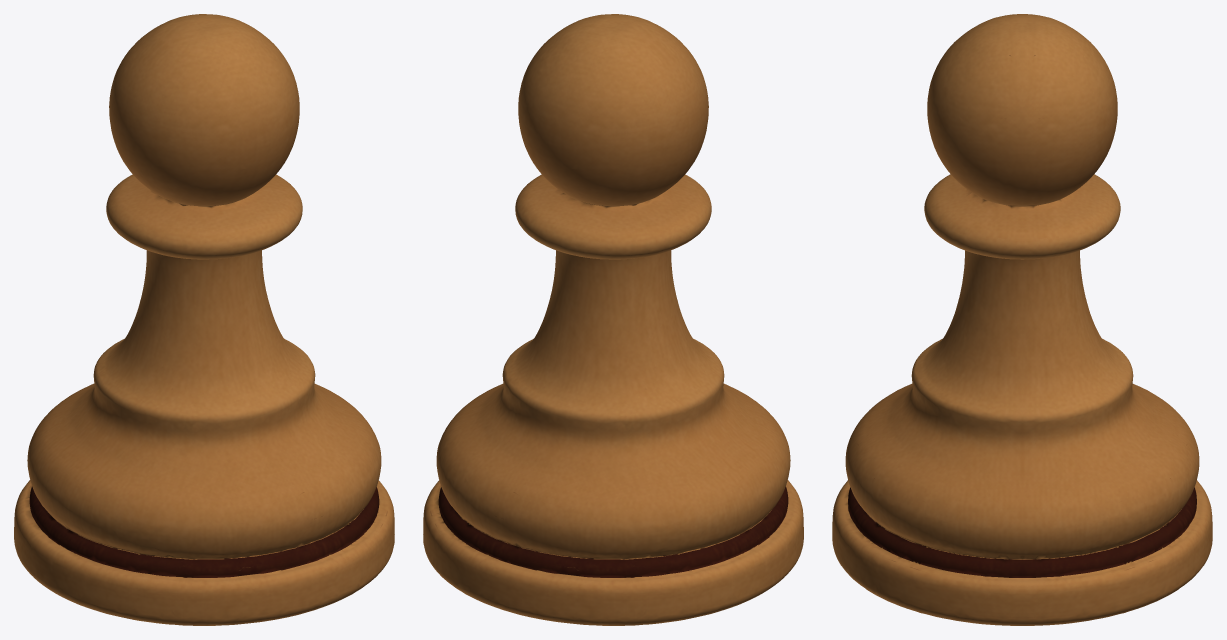
The model's file is 11_pawn_light.glb.
3 views of the same model, side by side, from view 1: azimuth 30°, elevation 25°; view 2: azimuth 150°, elevation 25°; view 3: azimuth 270°, elevation 25° (orthographic).
Parts seen in each view (by area): view 1: world; view 2: world; view 3: world.
Boxes of the visible parts, bbox=[...] form: world: bbox=[14, 14, 394, 625]; world: bbox=[423, 14, 803, 625]; world: bbox=[832, 14, 1212, 625].
Size of the model in its own units: 0.6591 by 1 by 0.6591.
Materials: 1 (1 with a texture image).
